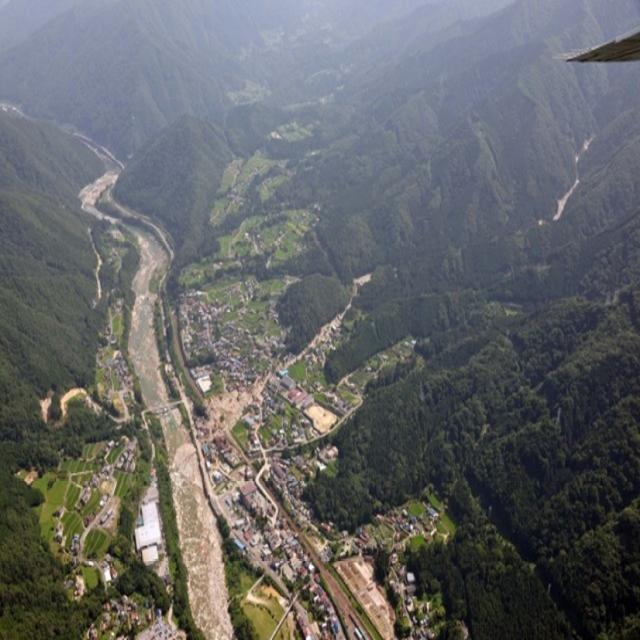Debris-flow: (81, 168, 230, 639), (60, 387, 101, 414), (40, 395, 51, 422), (558, 202, 561, 212)
